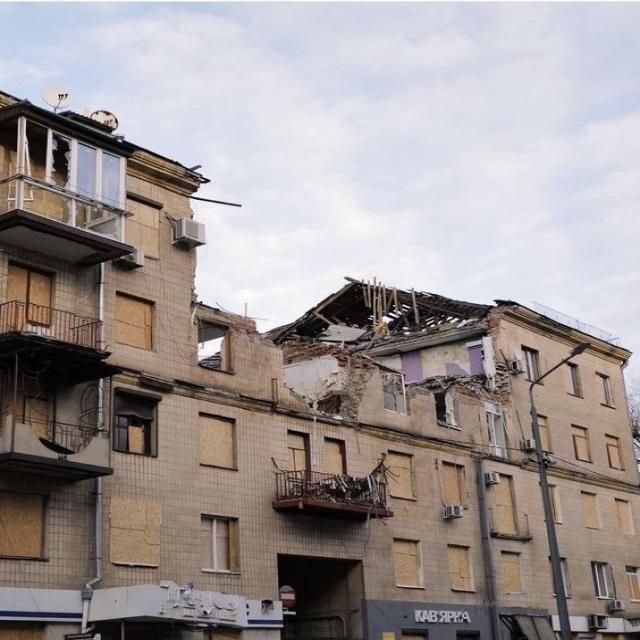broken_window: (198, 513, 240, 574)
building: (0, 88, 638, 638)
damaged_roof: (260, 275, 492, 354)
